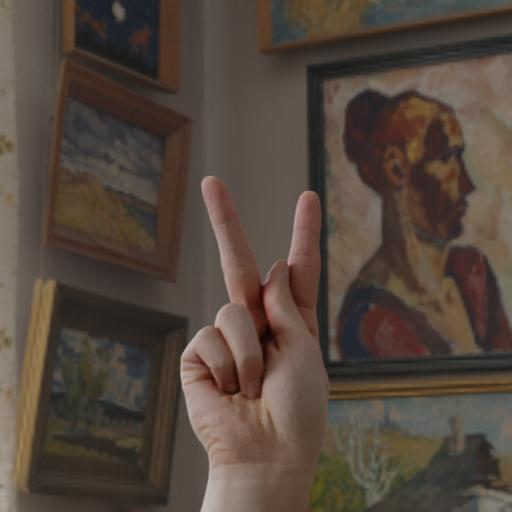K: (173, 172, 336, 472)
